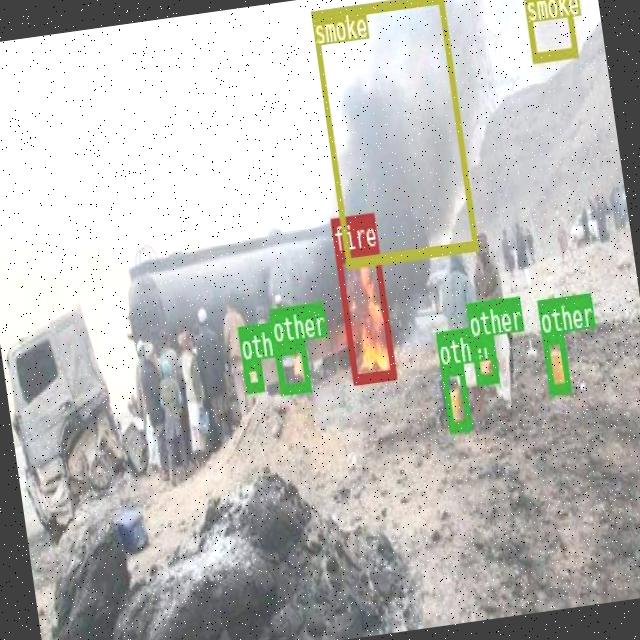fire: (334, 246, 395, 383)
smoke: (310, 0, 478, 267), (521, 0, 577, 61)
